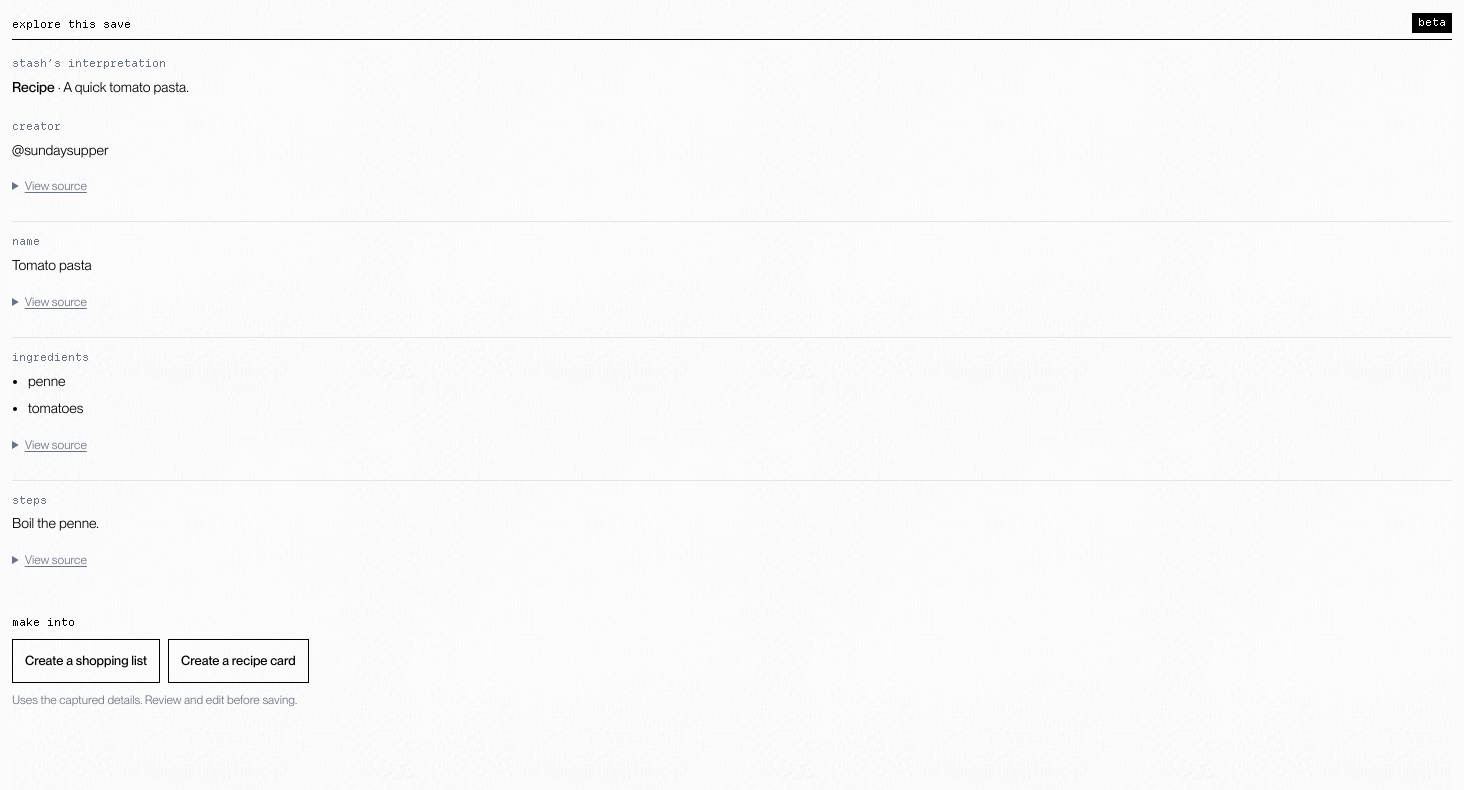
Test: preserves edits and offers the correct recovery when saving fails with session_required
Later steps or results of the test are not shown.
Click the button "Create a shopping list".
click(86, 661)  # box 12,639 -> 160,683
(page scrolled)
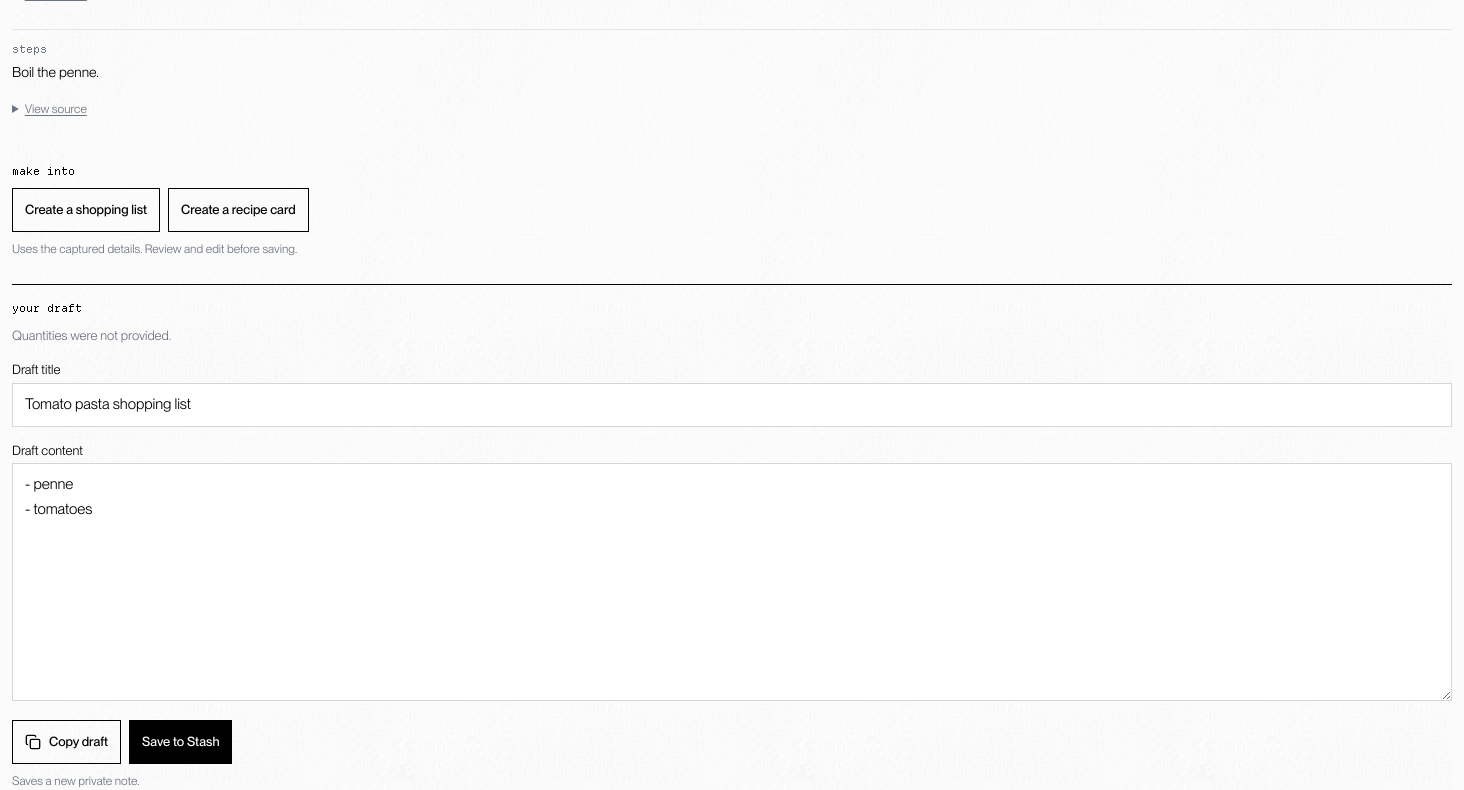
Replace the text in the text box labelled "Draft content" with "My revised draft" at [732, 582], box 12,464 -> 1452,701
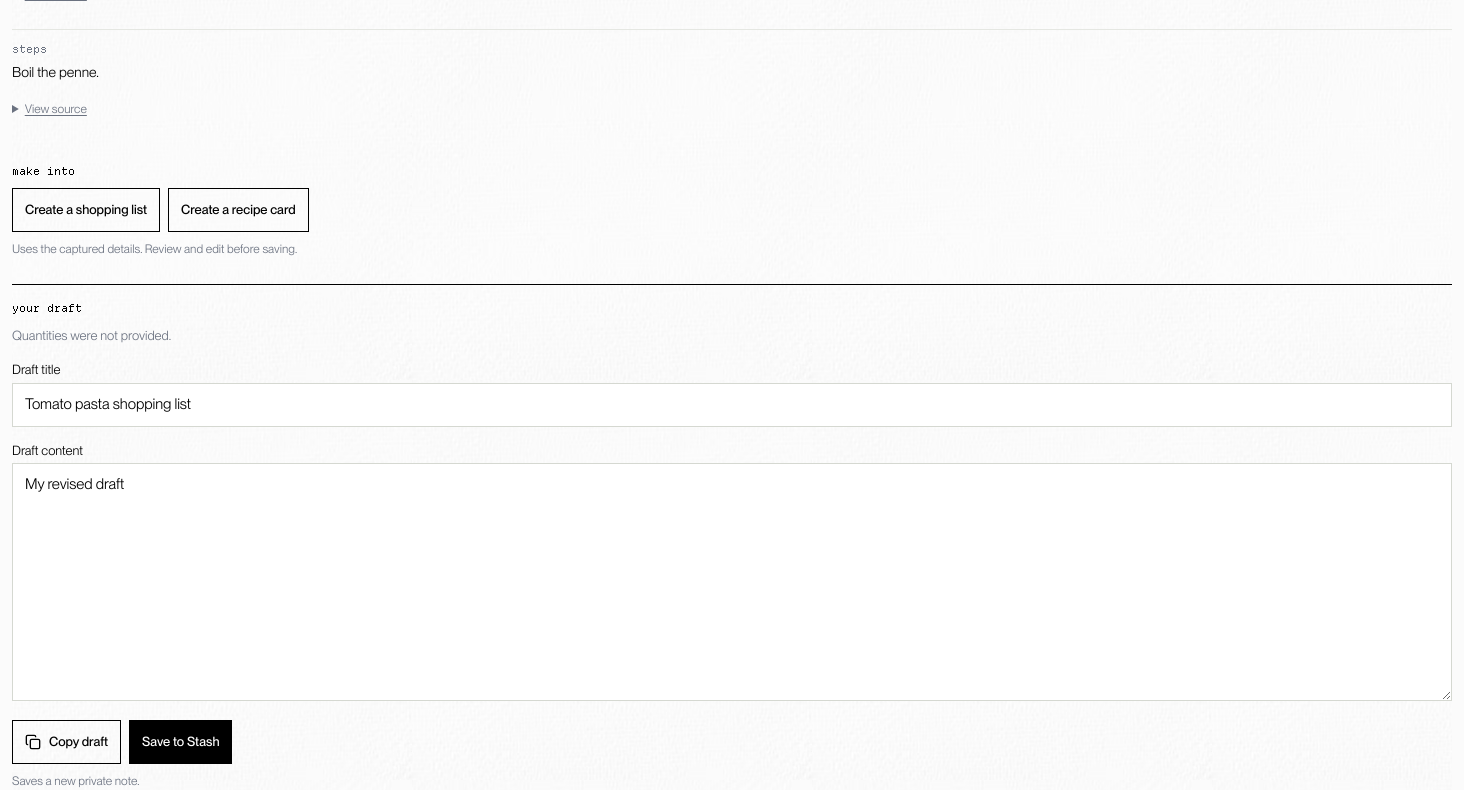
Click the button "Save to Stash".
click(181, 742)  # box 129,720 -> 232,764
(page scrolled)
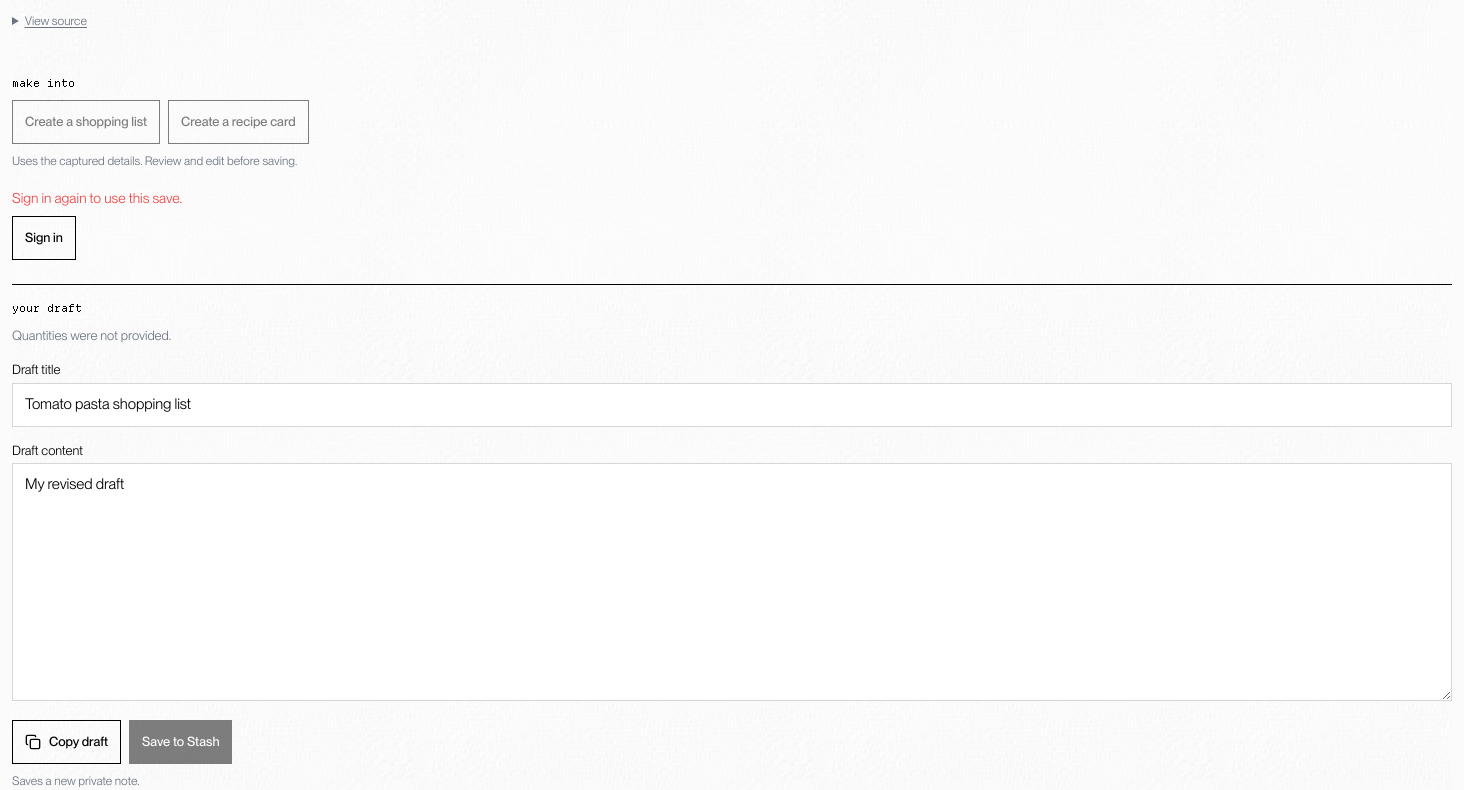
Expected: the message "Sign in again to use this save." is shown, 12,190 -> 182,206
Expected: the button "Save to Stash" is disabled, 129,720 -> 232,764
